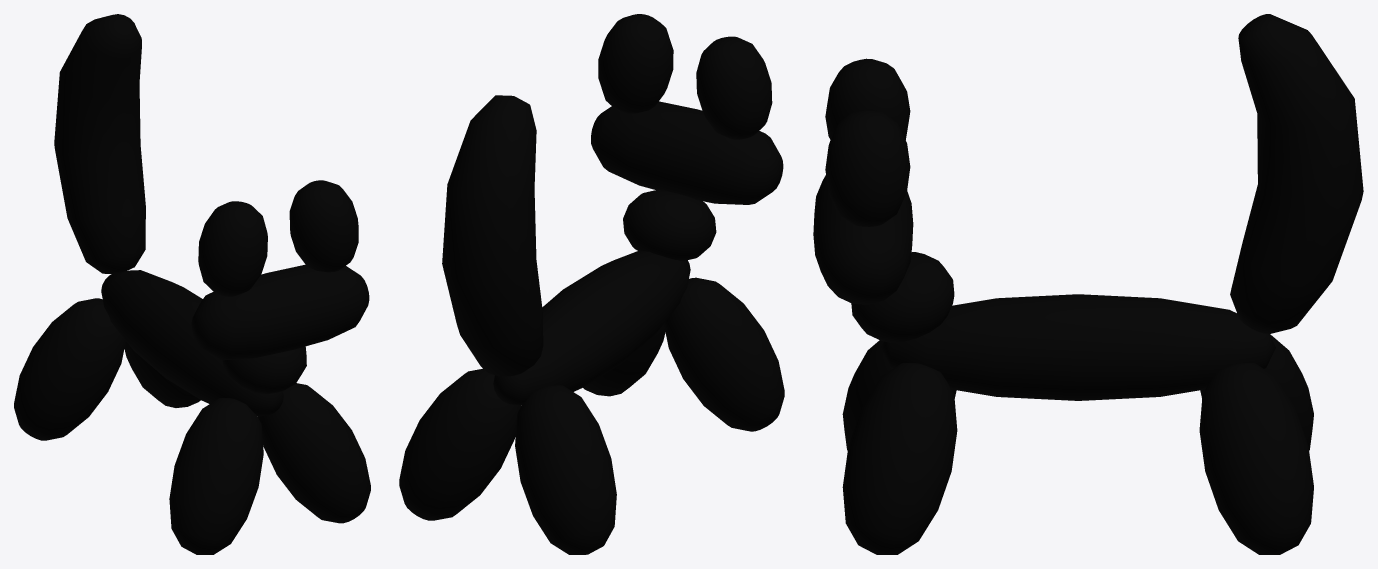
File: balloonCat.fbx
3 views of the same model, side by side, from view 1: azimuth 30°, elevation 25°; view 2: azimuth 150°, elevation 25°; view 3: azimuth 270°, elevation 25° (orthographic). The views are drawn at different scales.
Parts seen in each view (by area): view 1: Sphere.001; view 2: Sphere.001; view 3: Sphere.001.
Part boxes in pixels (x1,y1,x2,y2): Sphere.001: [14, 14, 370, 554]; Sphere.001: [399, 14, 784, 554]; Sphere.001: [813, 14, 1363, 554].
Bounding box in the file's own units: 73.46 × 149 × 149.
